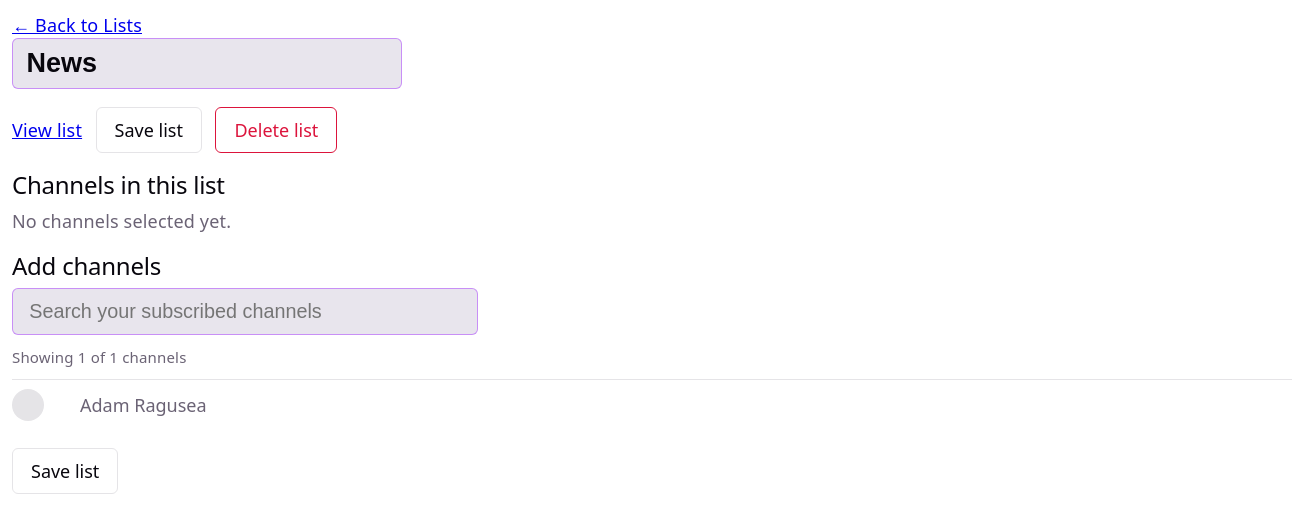
Scenario: ListEditorPage › adds a channel from search results and it moves out of the results list
The image size is (1304, 511).
Expected: the field showing "News" is shown, [12,38,402,89]
Expected: the text "No channels selected yet." is shown, [12,208,231,232]
Step 1. Click the button "Adam Ragusea" → (143, 405), box [80,392,206,418]
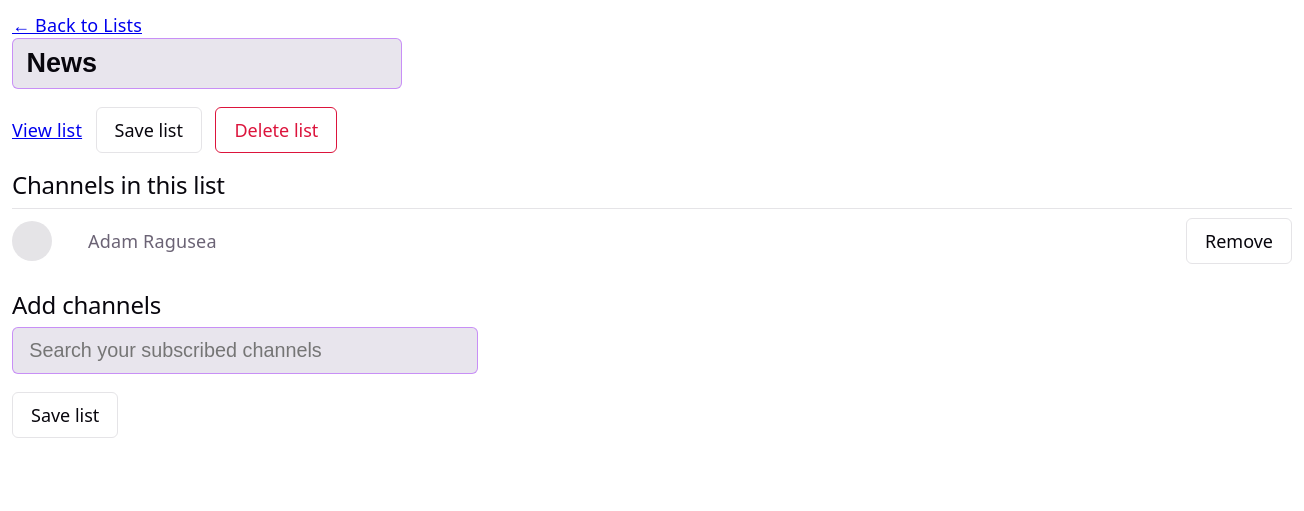
Expected: the text "No channels selected yet." is gone
Expected: the button "Remove" is shown, [1186,218,1292,264]
